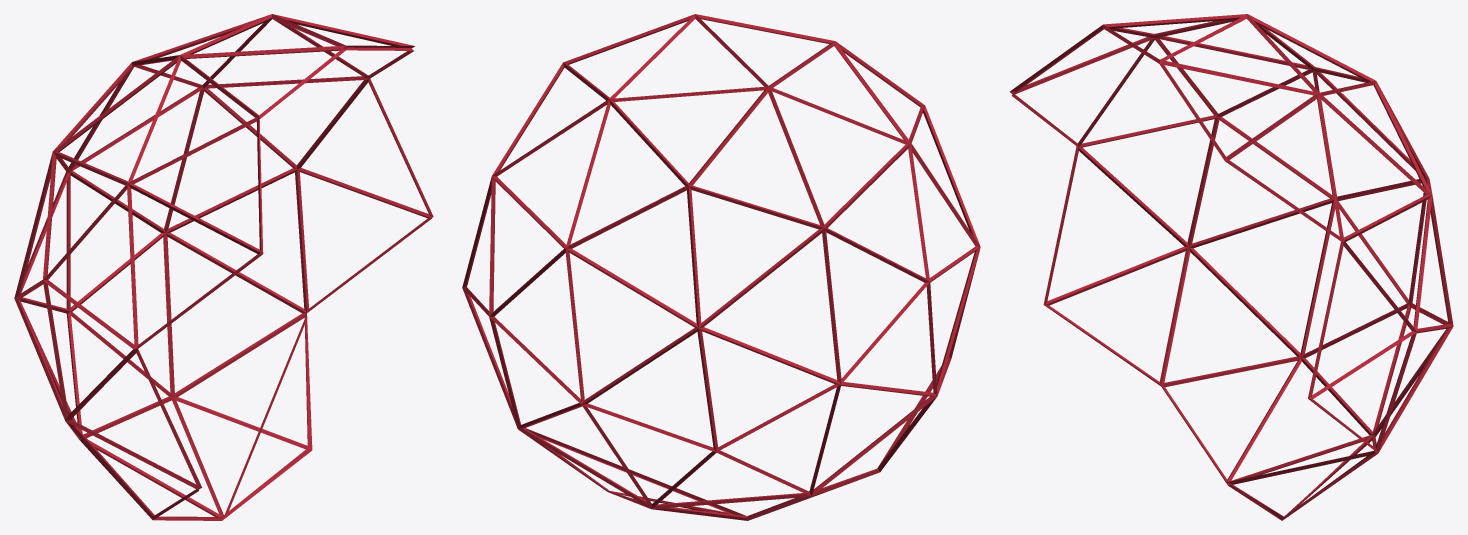
Rendered from shere_ico_arra,MEDIAN_adD_RED;fbx.fbx.
3 renders of one model, left to right at view 1: azimuth 30°, elevation 25°; view 2: azimuth 150°, elevation 25°; view 3: azimuth 270°, elevation 25°, orthographic. The views are drawn at different scales.
Parts seen in each view (by area): view 1: Icosphere; view 2: Icosphere; view 3: Icosphere.
Boxes of the visible parts, left/top/right/bottom form: Icosphere: left=14, top=14, right=433, bottom=520; Icosphere: left=462, top=14, right=980, bottom=520; Icosphere: left=1009, top=14, right=1453, bottom=520.
Size of the model in its own units: 231 by 242 by 208.
